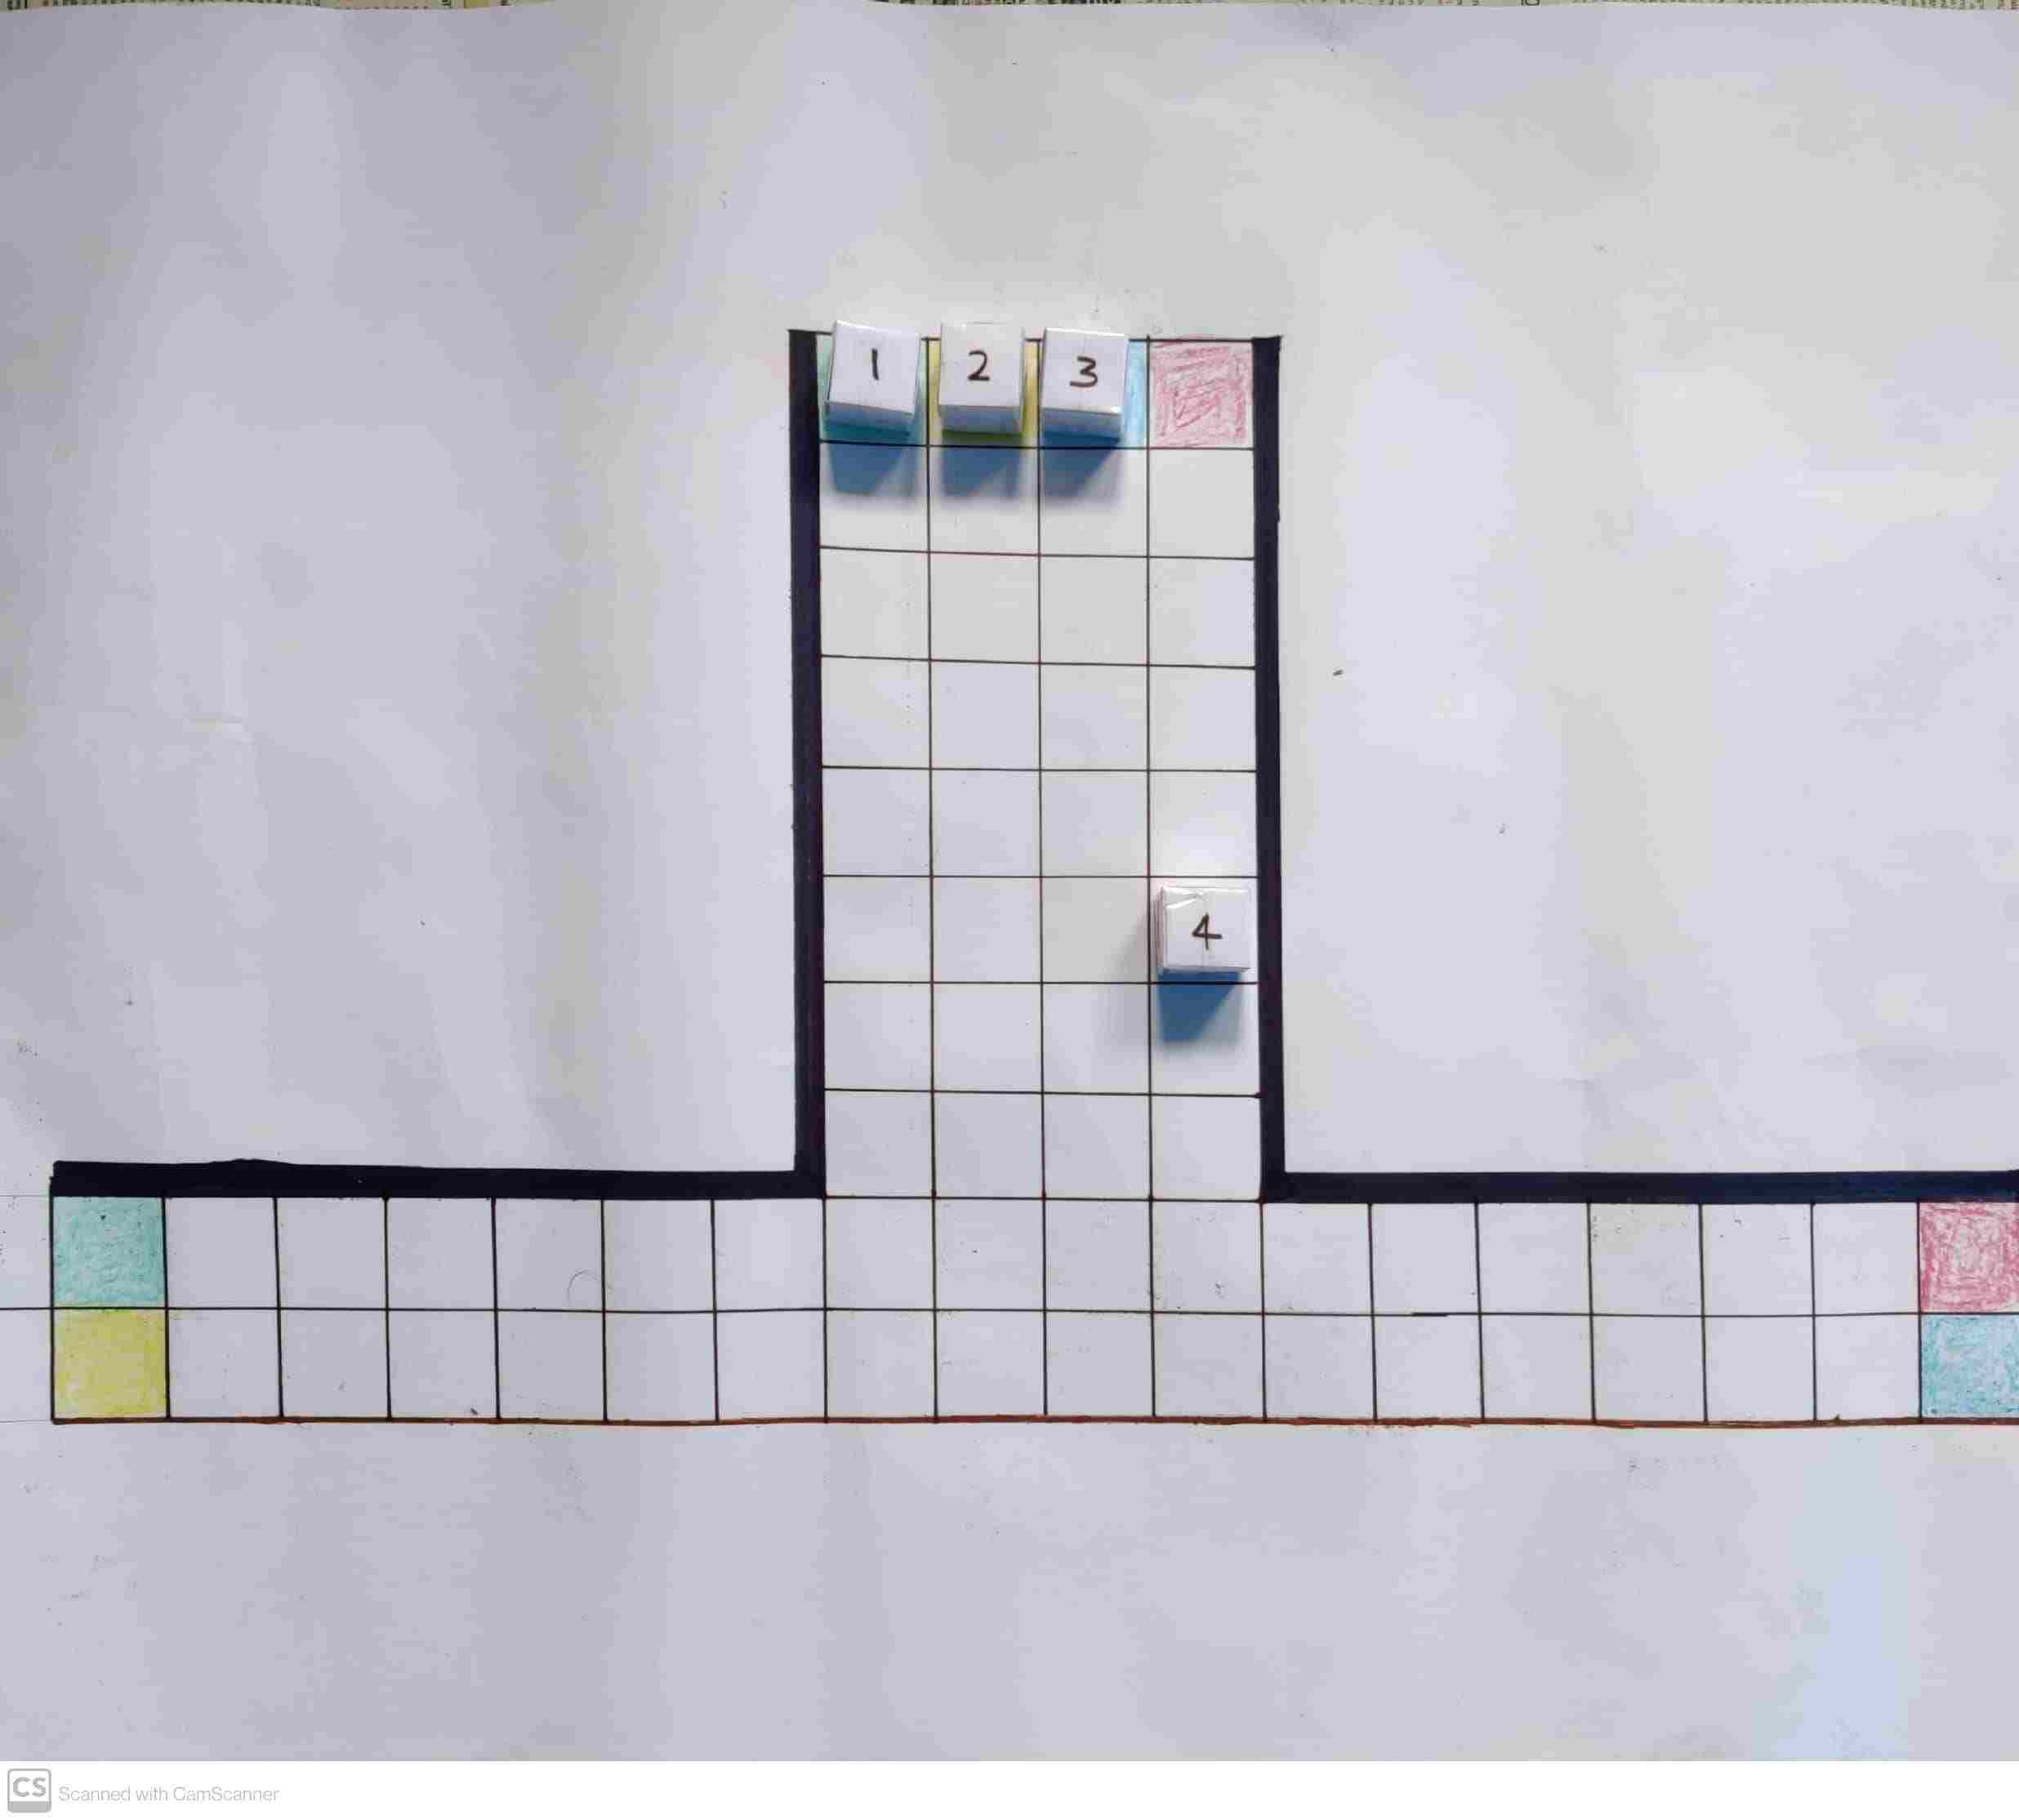arena: (51, 332, 2019, 1428)
bot: (827, 323, 920, 411), (1043, 327, 1127, 411), (1162, 892, 1250, 968), (941, 327, 1022, 406)
